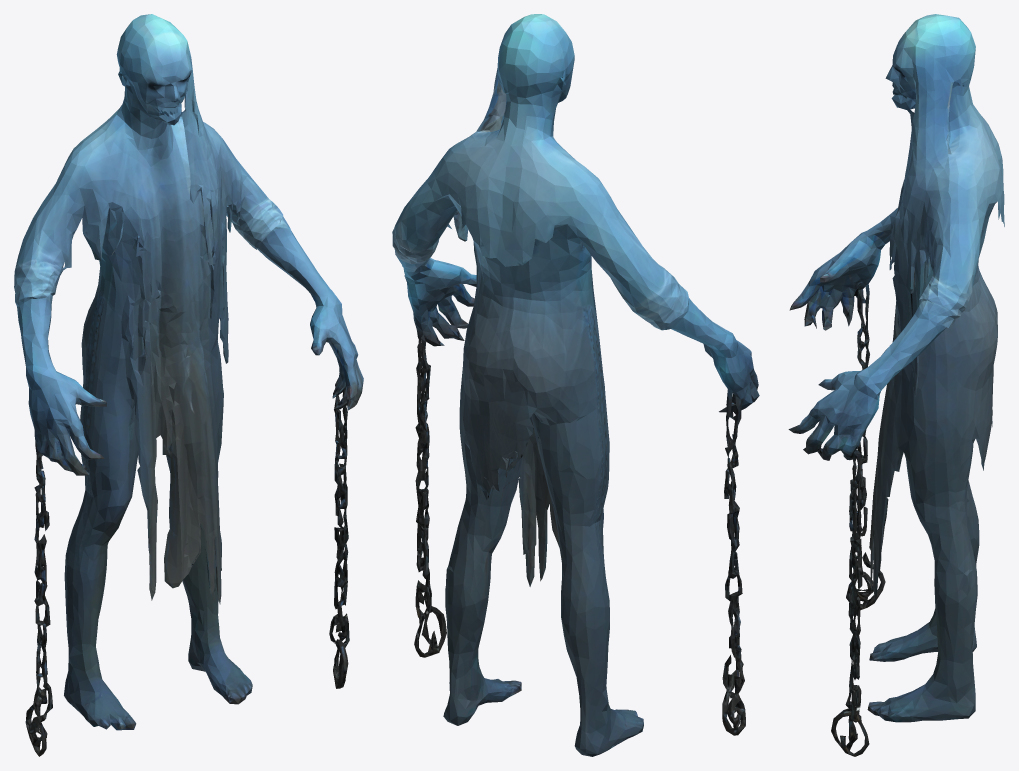
Rendered from Render_me_a_spirit_gh_0510005441_texture.obj.
The picture shows the model from 3 angles, left to right: view 1: azimuth 30°, elevation 25°; view 2: azimuth 150°, elevation 25°; view 3: azimuth 270°, elevation 25°; orthographic projection. The views are drawn at different scales.
Parts seen in each view (by area): view 1: Render_me_a_spirit_gh_0510005441_texture; view 2: Render_me_a_spirit_gh_0510005441_texture; view 3: Render_me_a_spirit_gh_0510005441_texture.
Part boxes in pixels (x1,y1,x2,y2): Render_me_a_spirit_gh_0510005441_texture: (14,14,363,756); Render_me_a_spirit_gh_0510005441_texture: (392,14,759,756); Render_me_a_spirit_gh_0510005441_texture: (788,14,1004,756).
Bounding box in the file's own units: 0.9837 × 1.99 × 0.5828.
1 material, 1 textured.
